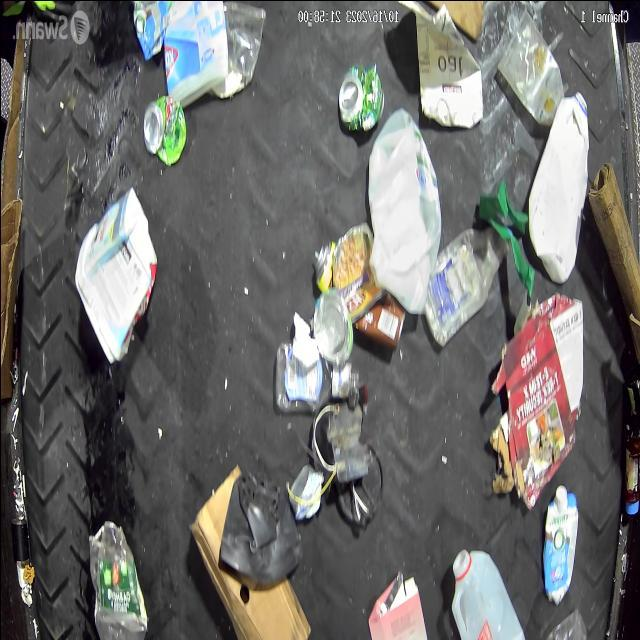can: (310, 236, 406, 352), (139, 94, 187, 168), (336, 61, 385, 133), (311, 287, 353, 363), (310, 402, 340, 484), (286, 462, 323, 522)
milk_jug: (365, 107, 442, 317), (526, 86, 590, 288), (450, 543, 526, 640)
plastic_bottle: (420, 220, 512, 346)
